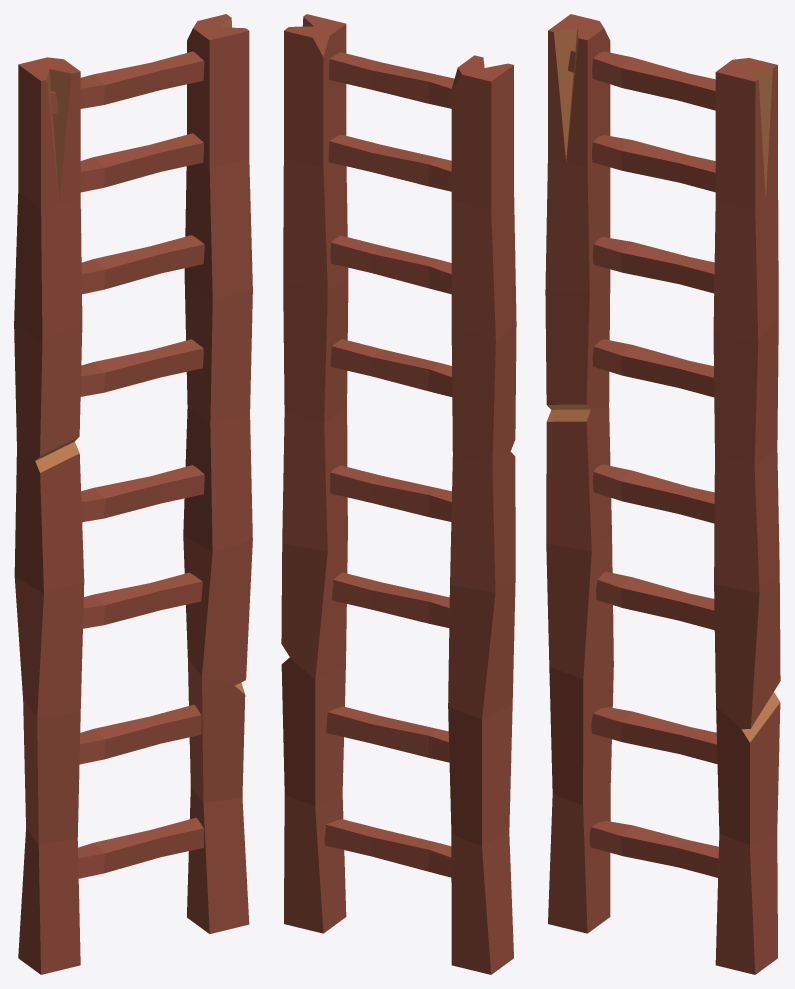
Rendered from ladder.fbx.
The picture shows the model from 3 angles, left to right: view 1: azimuth 30°, elevation 25°; view 2: azimuth 150°, elevation 25°; view 3: azimuth 330°, elevation 25°; orthographic projection.
Parts seen in each view (by area): view 1: ladder; view 2: ladder; view 3: ladder.
Boxes of the visible parts, <box> form: ladder: <box>14,14,252,974</box>; ladder: <box>281,14,516,974</box>; ladder: <box>545,14,780,974</box>.
Bounding box in the file's own units: 75.95 × 300 × 17.64.
Materials: 1 (1 with a texture image).
